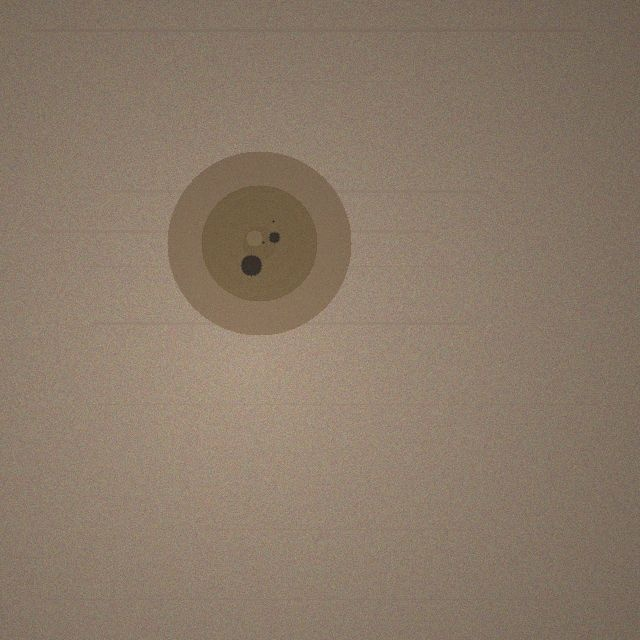shrinkage: (167, 151, 351, 335)
